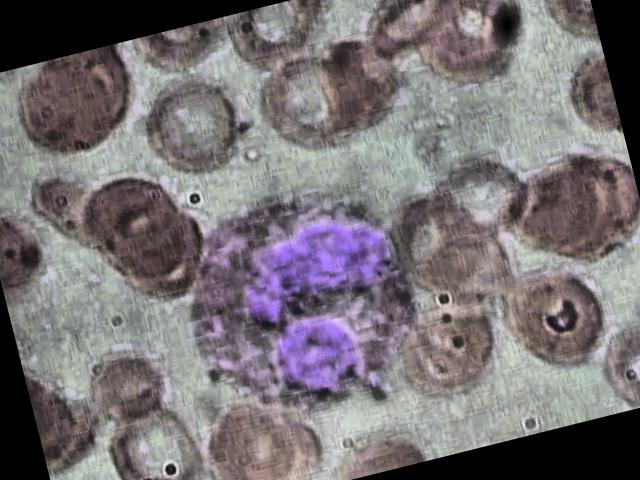RBC: (5, 43, 144, 168), (486, 250, 618, 380), (135, 64, 257, 184), (250, 38, 370, 156), (194, 385, 338, 480), (399, 0, 532, 87), (100, 389, 222, 480), (82, 337, 173, 422), (594, 313, 640, 414)
WBC: (152, 164, 436, 438)
